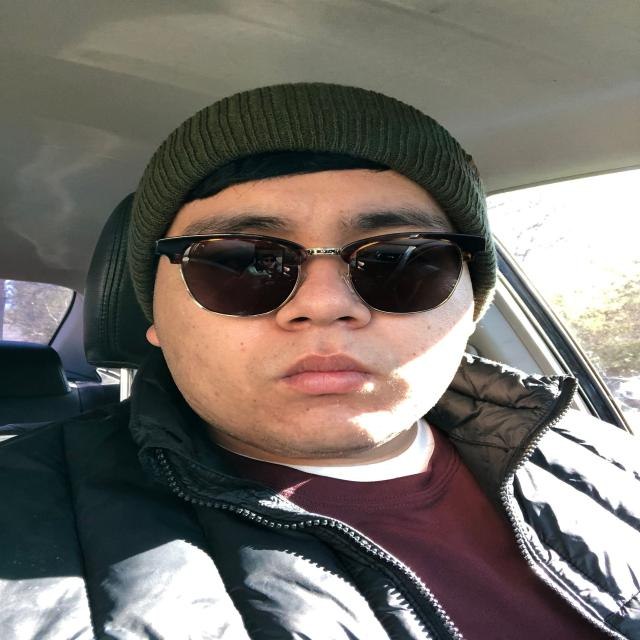2_gafas: (153, 230, 486, 318)
